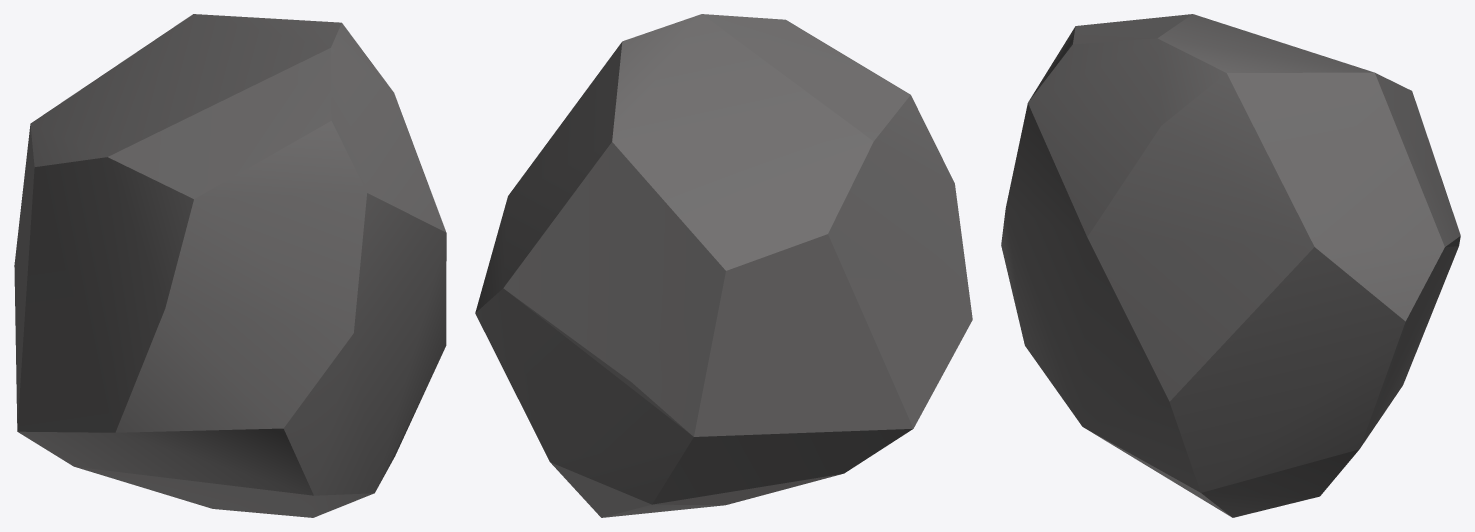
The model's file is RockI.fbx.
3 views of the same model, side by side, from view 1: azimuth 30°, elevation 25°; view 2: azimuth 150°, elevation 25°; view 3: azimuth 270°, elevation 25° (orthographic). The views are drawn at different scales.
Parts seen in each view (by area): view 1: RockI; view 2: RockI; view 3: RockI.
Boxes of the visible parts, x1,y1,x2,y2 form: RockI: (14,14,446,517); RockI: (475,14,972,517); RockI: (1001,14,1460,517).
Bounding box in the file's own units: 93.84 × 115 × 102.
